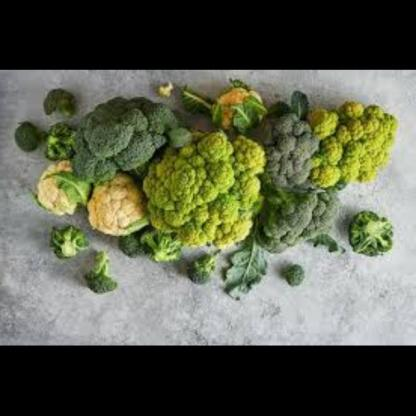broccoli: (251, 93, 328, 259), (55, 88, 171, 177), (43, 223, 121, 294), (113, 234, 217, 286), (12, 82, 74, 168), (338, 199, 398, 262), (280, 264, 314, 292)
cayliflower: (146, 132, 267, 260), (321, 98, 408, 187), (92, 175, 156, 240), (31, 156, 87, 222)
